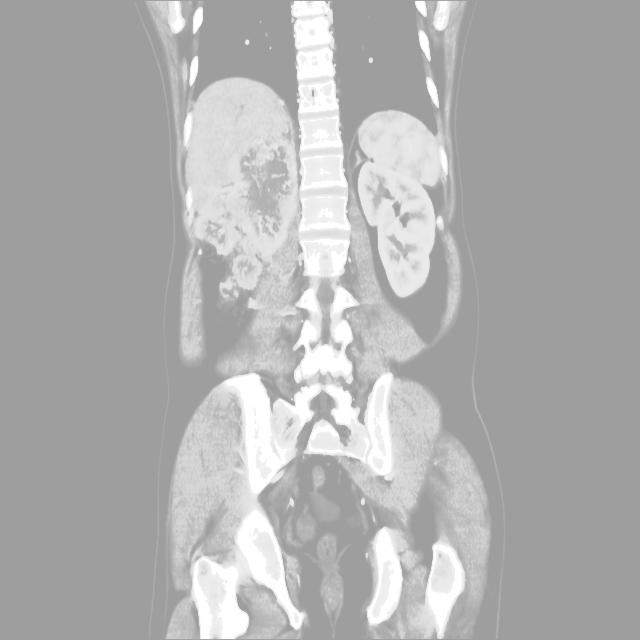TUMOR: (135, 117, 508, 405)
